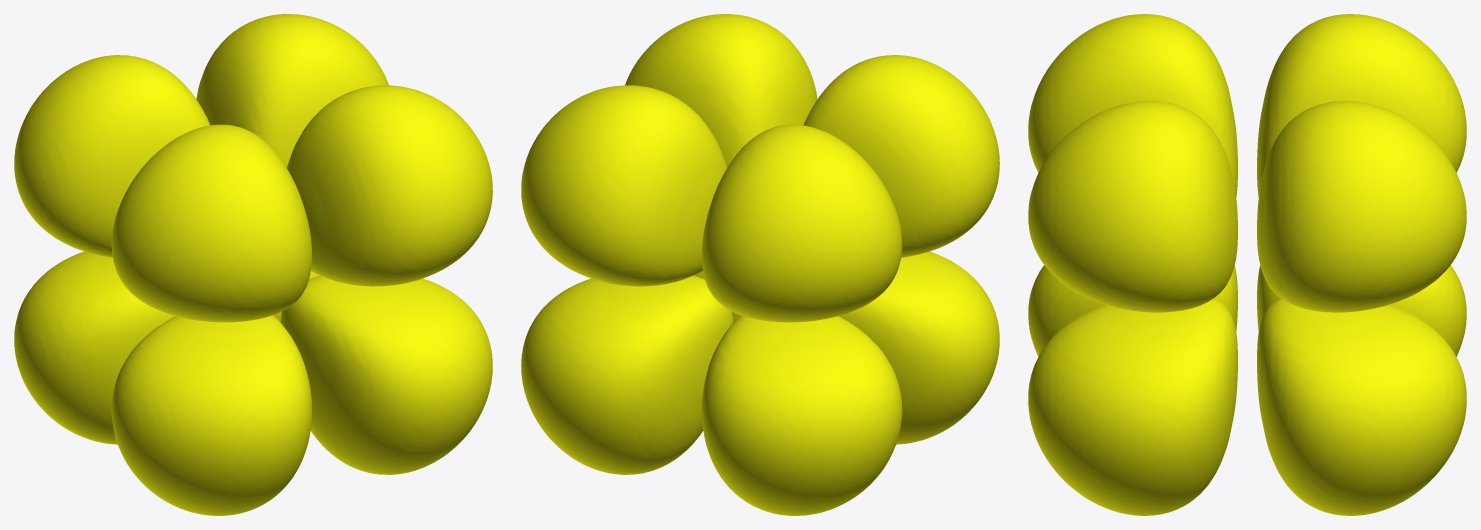
File: fxyz orbital.dae
3 renders of one model, left to right at view 1: azimuth 30°, elevation 25°; view 2: azimuth 150°, elevation 25°; view 3: azimuth 270°, elevation 25°, orthographic. The views are drawn at different scales.
Visible parts, largest first — view 1: fxyz - 1, fxyz - 2; view 2: fxyz - 2, fxyz - 1; view 3: fxyz - 2, fxyz - 1.
Boxes of the visible parts, box(x1,y1,x2,y2) form: fxyz - 1: box(14, 14, 492, 474); fxyz - 2: box(14, 55, 492, 515); fxyz - 2: box(521, 14, 999, 474); fxyz - 1: box(521, 55, 999, 515); fxyz - 2: box(1028, 14, 1466, 515); fxyz - 1: box(1028, 14, 1466, 515).
Bounding box in the file's own units: 51.91 × 51.91 × 51.91.
